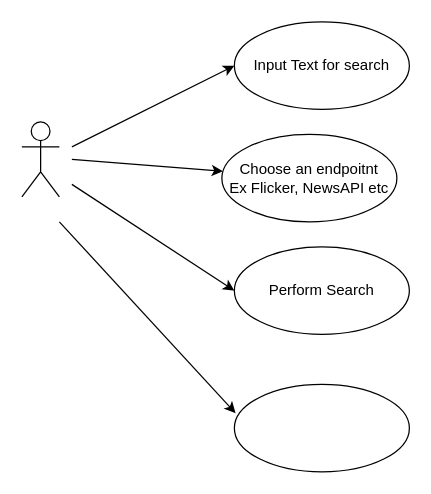
Image size: 431x494. Some labels were removed from this diagram. Each missing label, with the centre of its shape:
"Actor" belongs at (x=40, y=159).
"Choose customization of view - small /medium/large" belongs at (x=321, y=427).
